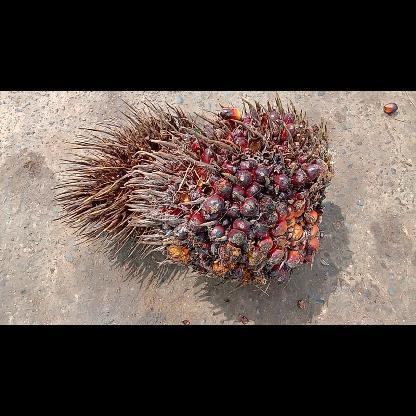Janjang kosong: (51, 99, 194, 260)
TBS masak: (125, 91, 333, 289)
